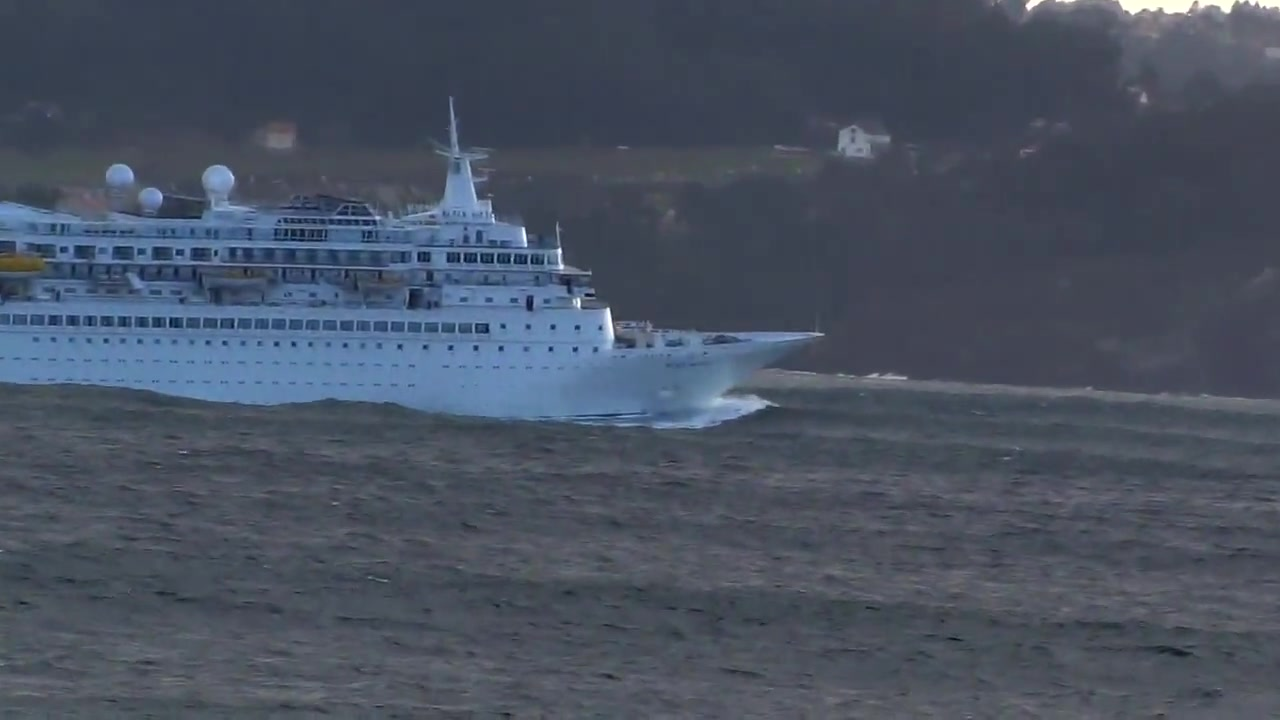boat: (4, 85, 827, 420)
